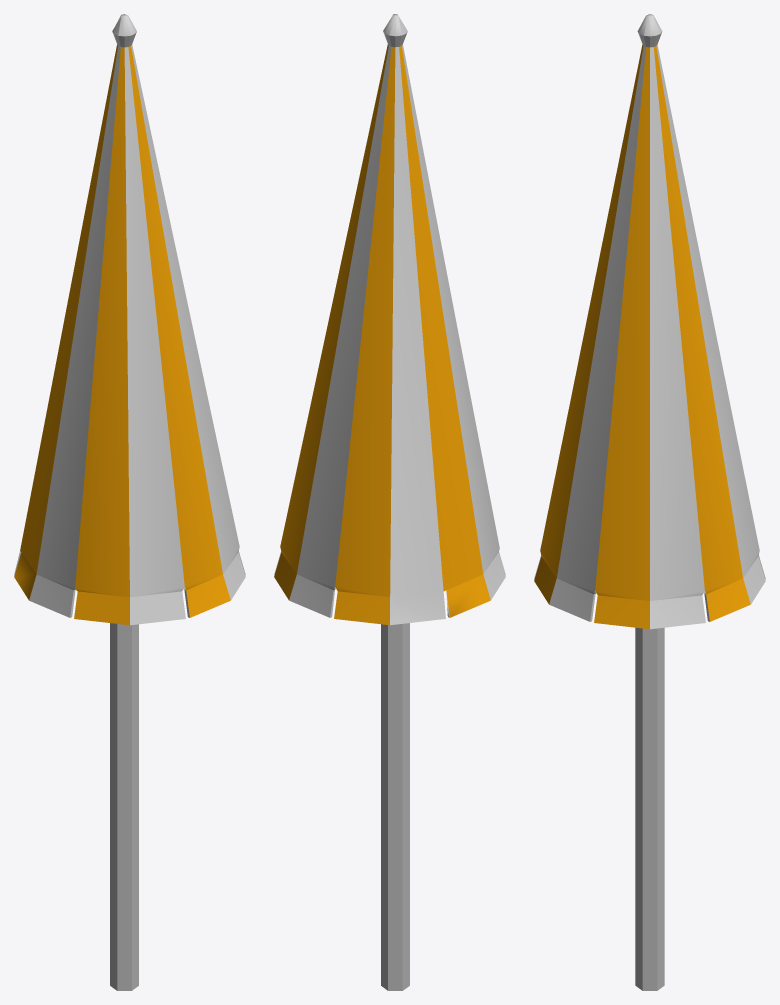
Rendered from Umbrella_08.fbx.
3 views of the same model, side by side, from view 1: azimuth 30°, elevation 25°; view 2: azimuth 150°, elevation 25°; view 3: azimuth 270°, elevation 25° (orthographic).
Parts seen in each view (by area): view 1: Umbrella_08; view 2: Umbrella_08; view 3: Umbrella_08.
Part boxes in pixels (x1,y1,x2,y2): Umbrella_08: (14,14,245,990); Umbrella_08: (274,14,505,990); Umbrella_08: (534,14,765,990).
Size of the model in its own units: 50.23 by 231 by 49.97.
